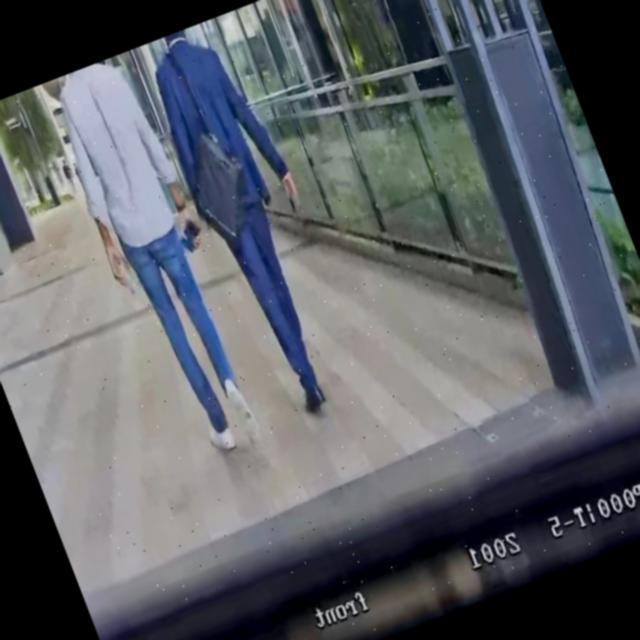person: (134, 11, 378, 430), (40, 50, 279, 471), (59, 159, 80, 195)
